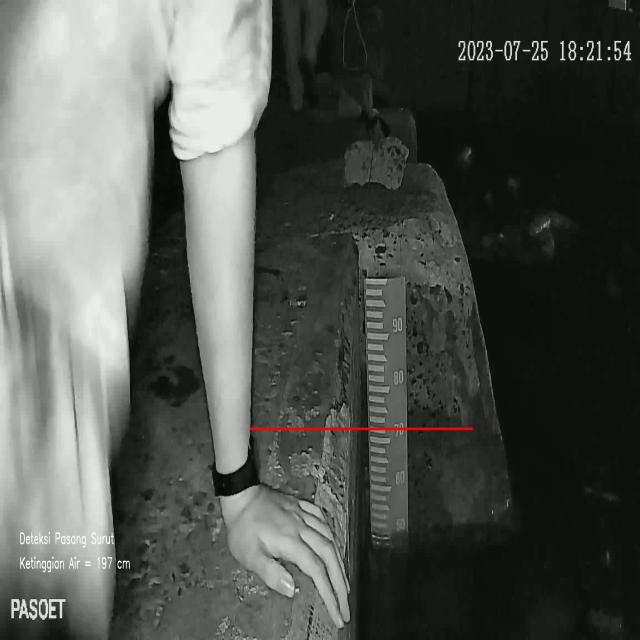water-meter: (362, 270, 414, 575)
